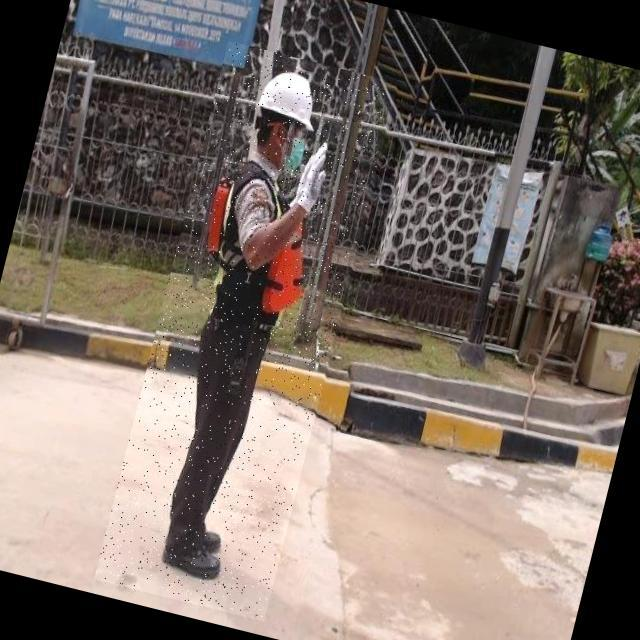Gloves: (288, 138, 341, 219)
Helmet: (253, 68, 330, 142)
Person: (148, 44, 370, 617)
Safety Boot: (160, 535, 232, 591), (192, 526, 228, 557)
Safety Vest: (187, 159, 333, 340)
